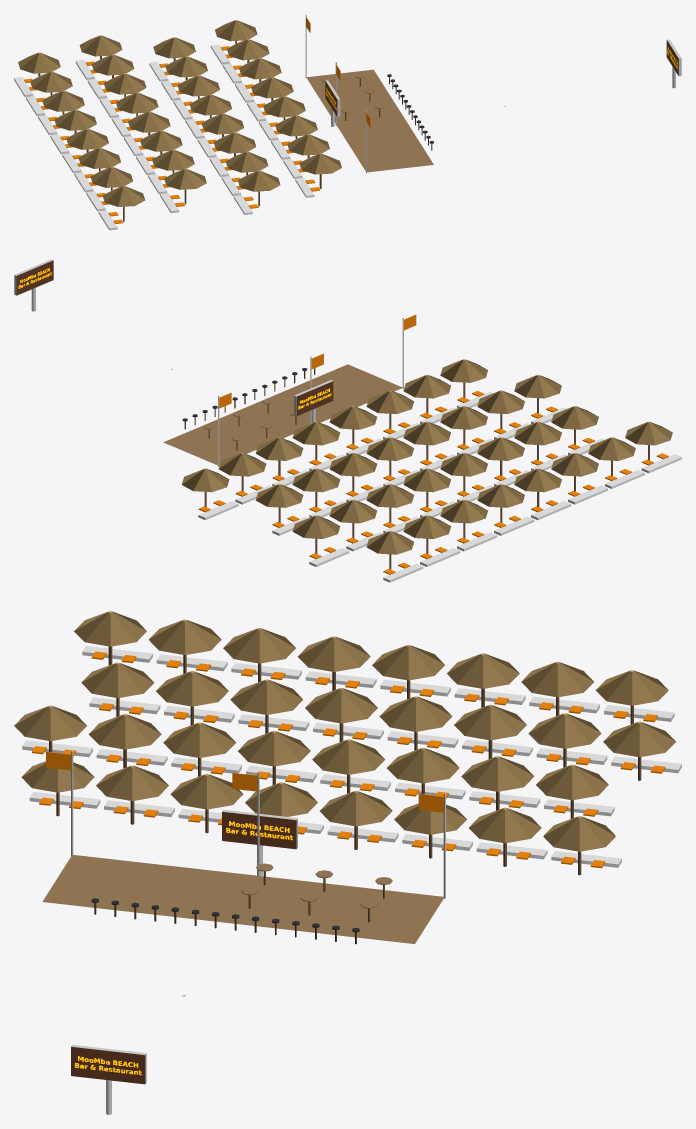
Rendered from moomba_fx.glb.
The picture shows the model from 3 angles, top to bottom: view 1: azimuth 30°, elevation 25°; view 2: azimuth 150°, elevation 25°; view 3: azimuth 270°, elevation 25°; orthographic projection. The views are drawn at different scales.
Visible parts, largest first — view 1: moomba_fx_lod0; view 2: moomba_fx_lod0; view 3: moomba_fx_lod0.
Part boxes in pixels (x1,y1,x2,y2): moomba_fx_lod0: (14,14,681,230); moomba_fx_lod0: (14,259,681,582); moomba_fx_lod0: (14,611,681,1114).
Size of what is drawn, in the model's own units: 57.27 by 6 by 34.63.
12 materials, 1 textured.
